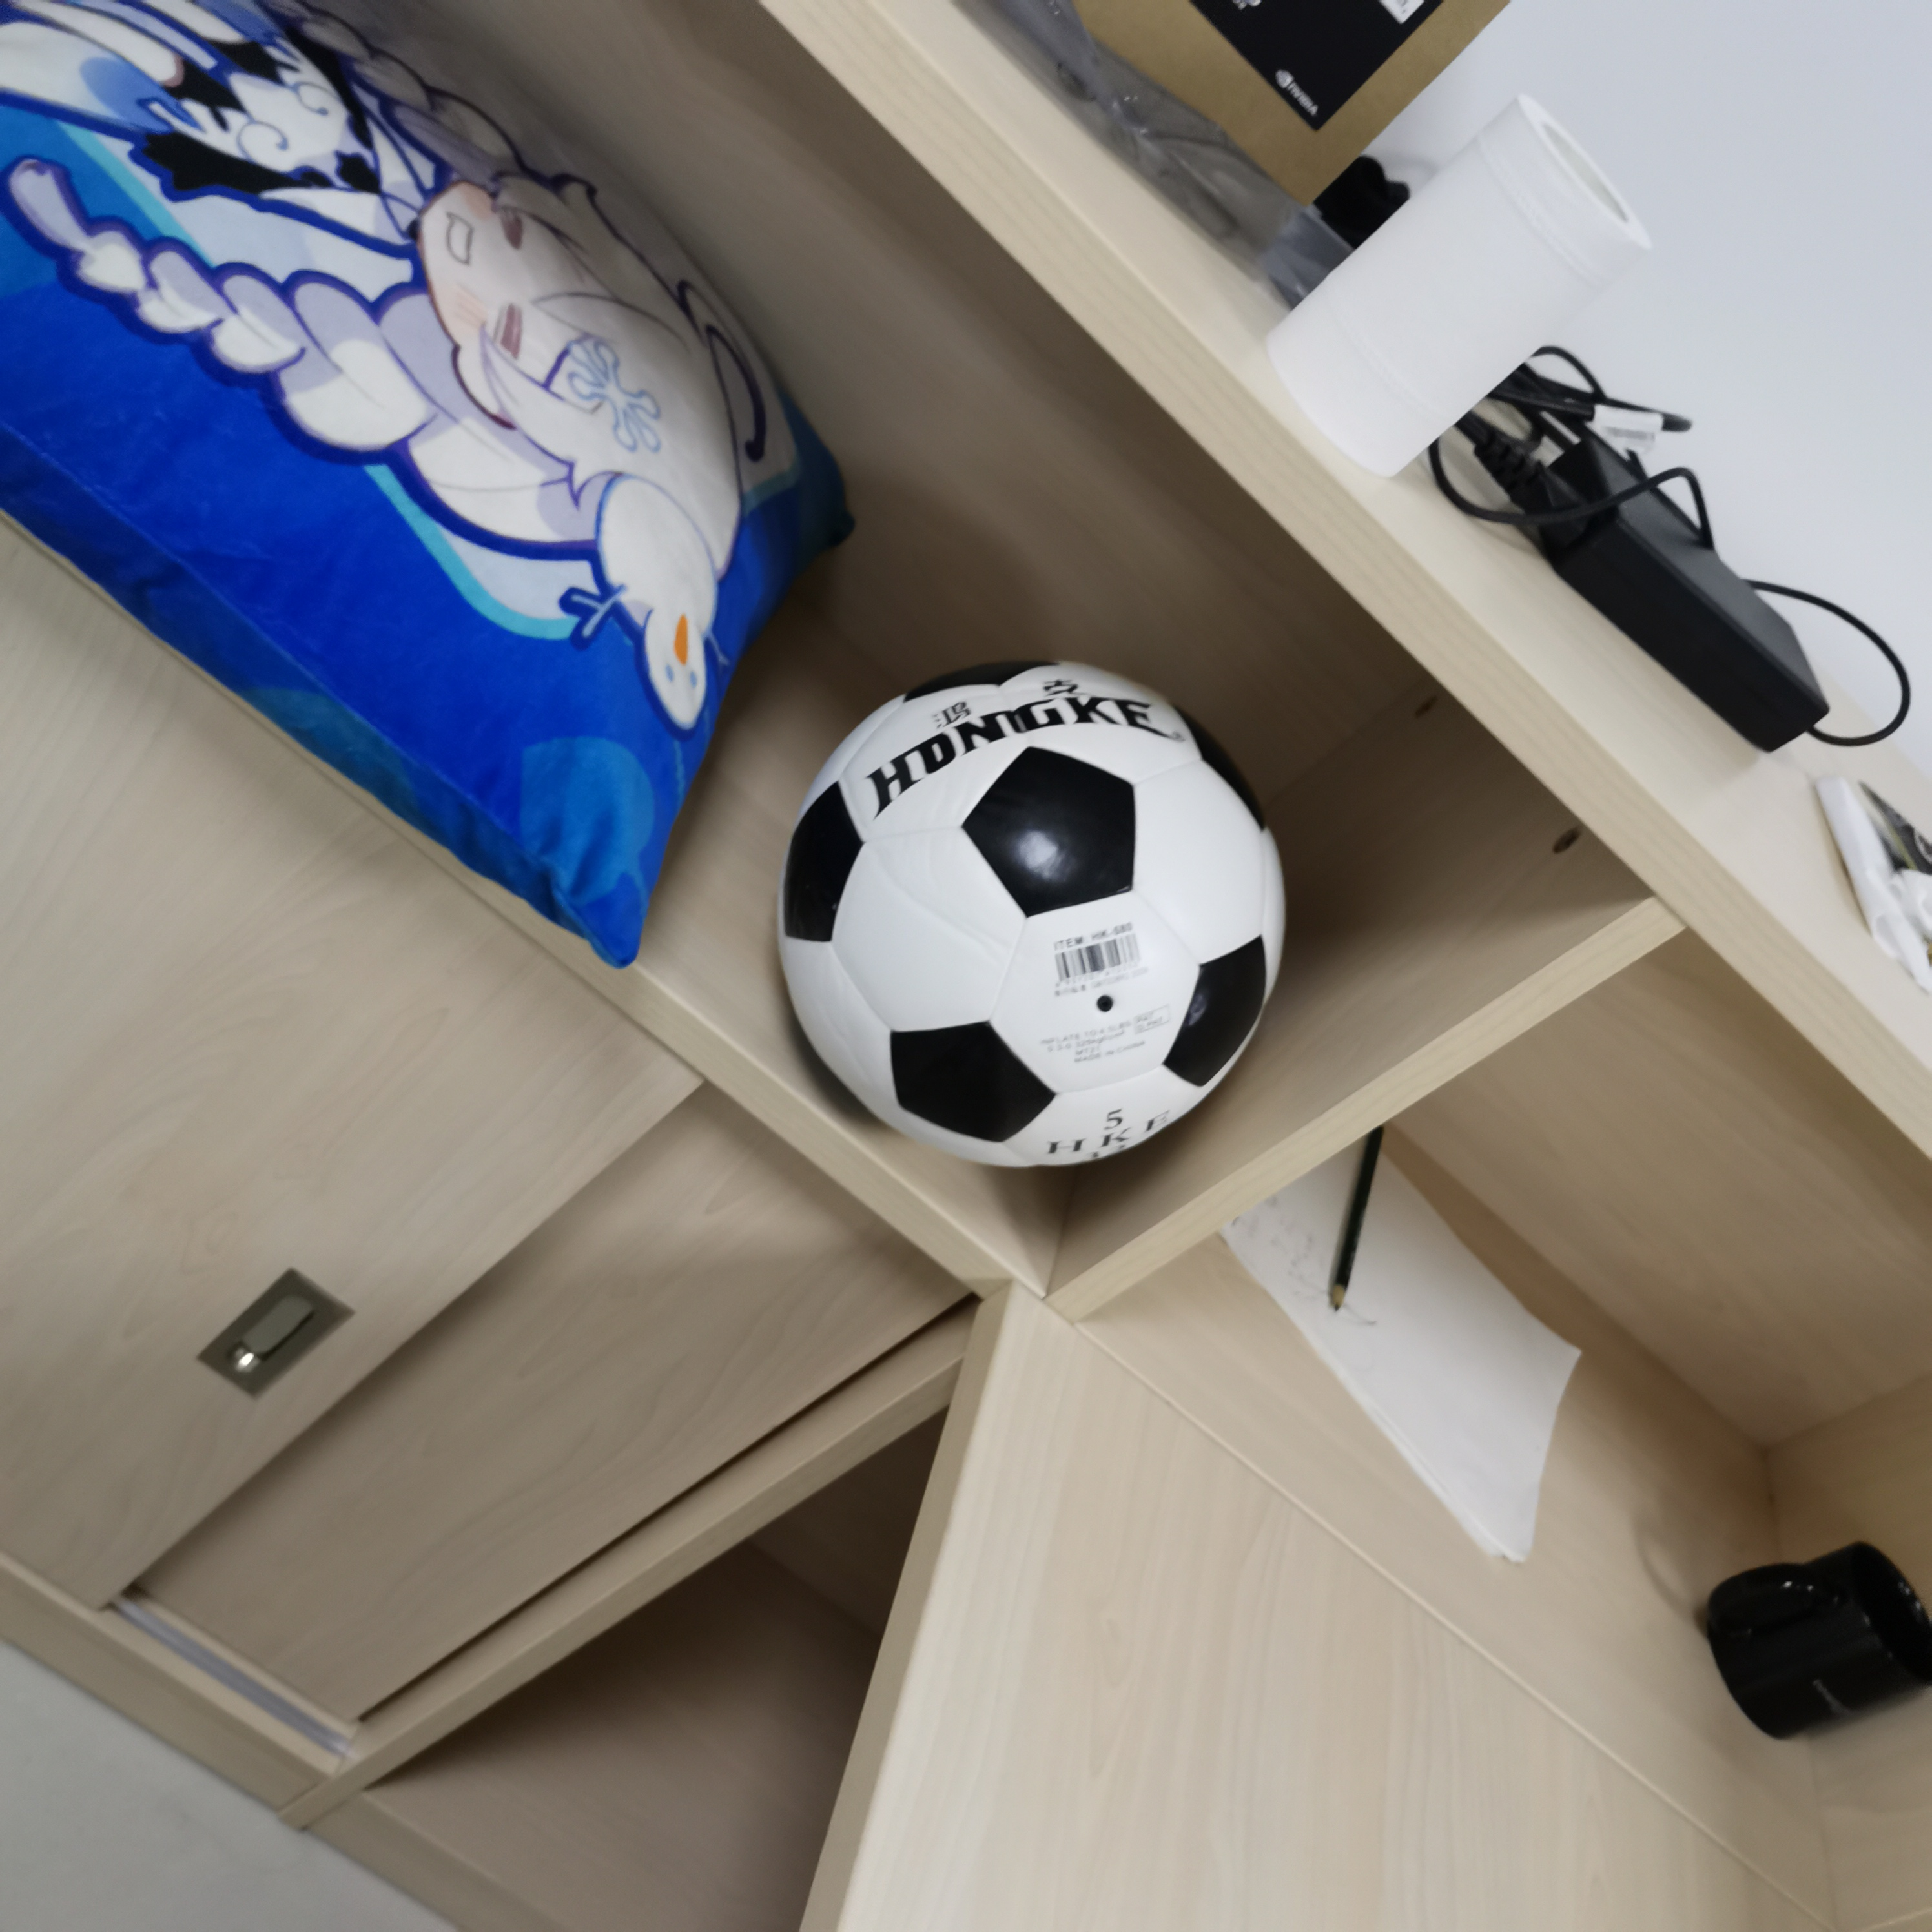football: (775, 660, 1288, 1169)
